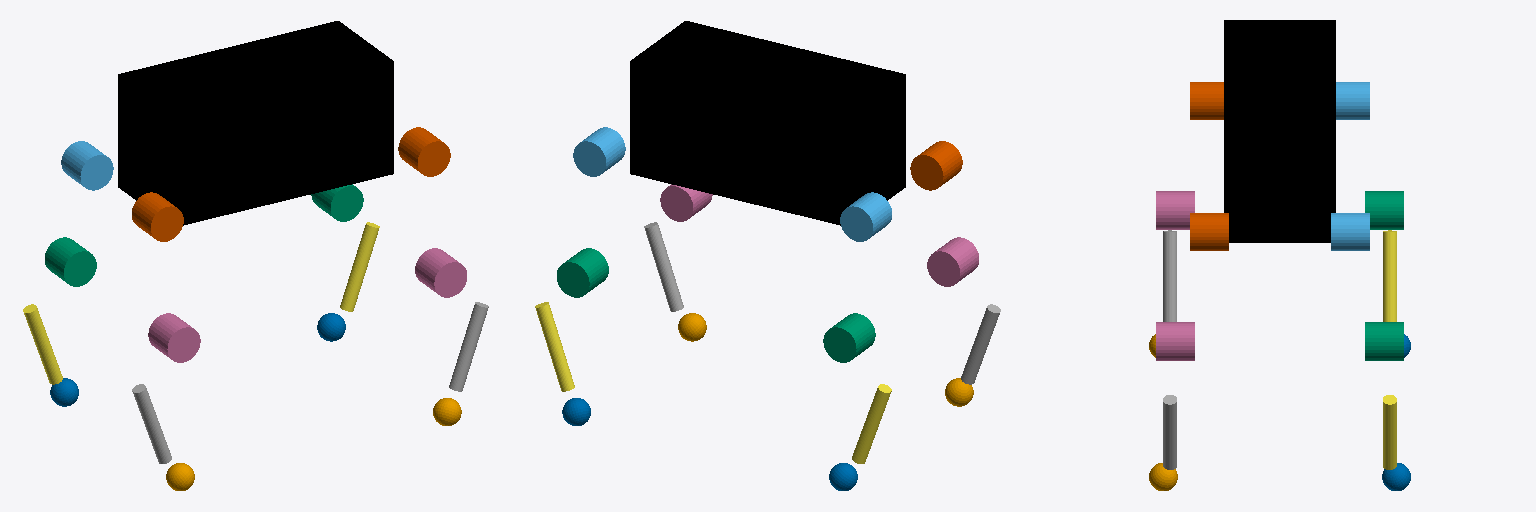
robot.urdf — anymal:
<?xml version="1.0" ?>
<!-- =================================================================================== -->
<!-- |    This document was autogenerated by xacro from [local-path]/catkin_ws/src/anymal_beth/anymal_beth_description/urdf/anymal_beth.urdf.xacro | -->
<!-- |    EDITING THIS FILE BY HAND IS NOT RECOMMENDED                                 | -->
<!-- =================================================================================== -->
<!--Copyright (C) 2015 by [author]                                    -->
<[email redacted]                                                 -->
<!--                                                                         -->
<!--This program is free software; you can redistribute it and/or modify     -->
<!--it under the terms of the Lesser GNU General Public License as published -->
<!--by the Free Software Foundation; either version 3 of the License, or     -->
<!--(at your option) any later version.                                      -->
<!--                                                                         -->
<!--This program is distributed in the hope that it will be useful,          -->
<!--but WITHOUT ANY WARRANTY; without even the implied warranty of           -->
<!--MERCHANTABILITY or FITNESS FOR A PARTICULAR PURPOSE. See the             -->
<!--Lesser GNU General Public License for more details.                      -->
<!--                                                                         -->
<!--You should have received a copy of the Lesser GNU General Public License -->
<!--along with this program. If not, see <http://www.gnu.org/licenses/>.     -->
<!-- This file contains the description of the ANYmal Beth robot. -->
<robot name="anymal" xmlns:xacro="http://www.ros.org/wiki/xacro">
    <material name="black">
        <color rgba="0.0 0.0 0.0 1.0"/>
    </material>
    <material name="blue">
        <color rgba="0.0 0.0 0.8 1.0"/>
    </material>
    <material name="green">
        <color rgba="0.0 0.8 0.0 1.0"/>
    </material>
    <material name="grey">
        <color rgba="0.2 0.2 0.2 1.0"/>
    </material>
    <material name="light_grey">
        <color rgba="0.4 0.4 0.4 1.0"/>
    </material>
    <material name="orange">
        <color rgba="1.0 0.423529411765 0.0392156862745 1.0"/>
    </material>
    <material name="brown">
        <color rgba="0.870588235294 0.811764705882 0.764705882353 1.0"/>
    </material>
    <material name="red">
        <color rgba="0.8 0.0 0.0 1.0"/>
    </material>
    <material name="white">
        <color rgba="1.0 1.0 1.0 1.0"/>
    </material>
    <!-- Material for the visual primitives -->
    <material name="anymal_material">
        <color rgba="0 0 0 0"/>
    </material>
    <link name="base">
        <visual>
            <!-- Main Body -->
            <origin rpy="0 0 0" xyz="0 0 0.08"/>
            <geometry>
                <box size="0.531 0.232 0.26"/>
            </geometry>
            <material name="anymal_material"/>
        </visual>
        <inertial>
            <origin rpy="0 0 0" xyz="0.0 0.0 0.0"/>
            <mass value="21.39"/>
            <inertia ixx="0.268388530624" ixy="0.000775392455422" ixz="-0.0151848534451" iyy="0.884235660795" iyz="-0.000989297489507" izz="0.829158678306"/>
        </inertial>
    </link>
    <link name="LF_HIP">
        <visual>
            <origin rpy="1.57079632679 0 0" xyz="0.0585 0.0315 0.0"/>
            <geometry>
                <cylinder length="0.08" radius="0.04"/>
            </geometry>
        </visual>
        <inertial>
            <origin rpy="0 0 0" xyz="0.0542 -0.0136 0.0"/>
            <mass value="1.1064"/>
            <inertia ixx="0.00123301508523" ixy="-6.4285329973e-05" ixz="6.9990104e-08" iyy="0.000993231183395" iyz="2.327401345e-06" izz="0.00142160349098"/>
        </inertial>
    </link>
    <!-- Hip joint -->
    <joint name="LF_HAA" type="continuous">
        <parent link="base"/>
        <child link="LF_HIP"/>
        <origin xyz="0.2629 0.115 0.0"/>
        <axis xyz="1 0 0"/>
        <dynamics damping="0.0" friction="0.0"/>
    </joint>
    <link name="LF_THIGH">
        <visual>
            <origin rpy="1.57079632679 0 0" xyz="0.0 0.07 -0.25"/>
            <geometry>
                <cylinder length="0.08" radius="0.04"/>
            </geometry>
        </visual>
        <inertial>
            <origin rpy="0 0 0" xyz="0.0008 0.0545 -0.1975"/>
            <mass value="1.51"/>
            <inertia ixx="0.0147571628275" ixy="-1.7996507882e-05" ixz="0.000205877679383" iyy="0.0144188925719" iyz="-0.00181291342366" izz="0.00178449075964"/>
        </inertial>
    </link>
    <!-- Thigh joint -->
    <joint name="LF_HFE" type="continuous">
        <parent link="LF_HIP"/>
        <child link="LF_THIGH"/>
        <origin xyz="0.0585 0.0315 0.0"/>
        <axis xyz="0 1 0"/>
        <dynamics damping="0.0" friction="0.0"/>
    </joint>
    <link name="LF_SHANK">
        <visual>
            <origin rpy="-0.0 0.34 0" xyz="0.06 -0.03 -0.18"/>
            <geometry>
                <cylinder length="0.19" radius="0.015"/>
            </geometry>
        </visual>
        <inertial>
            <origin rpy="0 0 0" xyz="0.016355414056 -0.00562219106 -0.064350437219"/>
            <mass value="0.318"/>
            <inertia ixx="0.0037693717909" ixy="-7.7334500762e-05" ixz="-0.000152069372983" iyy="0.00400446467635" iyz="-0.0003218356083" izz="0.000418471691904"/>
        </inertial>
    </link>
    <!-- Shank joint -->
    <joint name="LF_KFE" type="continuous">
        <parent link="LF_THIGH"/>
        <child link="LF_SHANK"/>
        <origin xyz="0.0 0.111 -0.25"/>
        <axis xyz="0 1 0"/>
        <dynamics damping="0.0" friction="0.0"/>
    </joint>
    <!-- Foot mount link -->
    <link name="LF_FOOT_MOUNT">
        <visual>
            <origin rpy="0 0 0" xyz="0.0 0.0 0"/>
            <geometry>
                <sphere radius="0.03"/>
            </geometry>
        </visual>
        <inertial>
            <origin rpy="0 0 0" xyz="-5.552058e-06 7.1133124e-05 -0.021388647779"/>
            <mass value="0.1922685"/>
            <inertia ixx="8.3086410294e-05" ixy="4.16901601e-07" ixz="3.99054799e-07" iyy="8.2860209667e-05" iyz="-3.45712252e-07" izz="8.1948124086e-05"/>
        </inertial>
    </link>
    <!-- Foot mount joint / ankle -->
    <joint name="LF_ANKLE_JOINT" type="fixed">
        <parent link="LF_SHANK"/>
        <child link="LF_FOOT_MOUNT"/>
        <origin rpy="0.323 0.549 0" xyz="0.0 -0.016 -0.31"/>
    </joint>
    <link name="RF_HIP">
        <visual>
            <origin rpy="1.57079632679 0 0" xyz="0.0585 -0.0315 0.0"/>
            <geometry>
                <cylinder length="0.08" radius="0.04"/>
            </geometry>
        </visual>
        <inertial>
            <origin rpy="0 0 0" xyz="0.0542 0.0136 0.0"/>
            <mass value="1.1064"/>
            <inertia ixx="0.00123301508523" ixy="6.4285329973e-05" ixz="6.9990104e-08" iyy="0.000993231183395" iyz="-2.327401345e-06" izz="0.00142160349098"/>
        </inertial>
    </link>
    <!-- Hip joint -->
    <joint name="RF_HAA" type="continuous">
        <parent link="base"/>
        <child link="RF_HIP"/>
        <origin xyz="0.2629 -0.115 0.0"/>
        <axis xyz="1 0 0"/>
        <dynamics damping="0.0" friction="0.0"/>
    </joint>
    <link name="RF_THIGH">
        <visual>
            <origin rpy="1.57079632679 0 0" xyz="0.0 -0.07 -0.25"/>
            <geometry>
                <cylinder length="0.08" radius="0.04"/>
            </geometry>
        </visual>
        <inertial>
            <origin rpy="0 0 0" xyz="0.0008 -0.0545 -0.1975"/>
            <mass value="1.51"/>
            <inertia ixx="0.0147571628275" ixy="1.7996507882e-05" ixz="0.000205877679383" iyy="0.0144188925719" iyz="0.00181291342366" izz="0.00178449075964"/>
        </inertial>
    </link>
    <!-- Thigh joint -->
    <joint name="RF_HFE" type="continuous">
        <parent link="RF_HIP"/>
        <child link="RF_THIGH"/>
        <origin xyz="0.0585                    -0.0315                    0.0"/>
        <axis xyz="0 1 0"/>
        <dynamics damping="0.0" friction="0.0"/>
    </joint>
    <link name="RF_SHANK">
        <visual>
            <origin rpy="0.0 0.34 0" xyz="0.06 0.03 -0.18"/>
            <geometry>
                <cylinder length="0.19" radius="0.015"/>
            </geometry>
        </visual>
        <inertial>
            <origin rpy="0 0 0" xyz="0.016355414056 0.00562219106 -0.064350437219"/>
            <mass value="0.318"/>
            <inertia ixx="0.0037693717909" ixy="7.7334500762e-05" ixz="-0.000152069372983" iyy="0.00400446467635" iyz="0.0003218356083" izz="0.000418471691904"/>
        </inertial>
    </link>
    <!-- Shank joint -->
    <joint name="RF_KFE" type="continuous">
        <parent link="RF_THIGH"/>
        <child link="RF_SHANK"/>
        <origin xyz="0.0 -0.111 -0.25"/>
        <axis xyz="0 1 0"/>
        <dynamics damping="0.0" friction="0.0"/>
    </joint>
    <!-- Foot mount link -->
    <link name="RF_FOOT_MOUNT">
        <visual>
            <origin rpy="0 0 0" xyz="0.0 0.0 0"/>
            <geometry>
                <sphere radius="0.03"/>
            </geometry>
        </visual>
        <inertial>
            <origin rpy="0 0 0" xyz="-5.552058e-06 -7.1133124e-05 -0.021388647779"/>
            <mass value="0.1922685"/>
            <inertia ixx="8.3086410294e-05" ixy="-4.16901601e-07" ixz="3.99054799e-07" iyy="8.2860209667e-05" iyz="3.45712252e-07" izz="8.1948124086e-05"/>
        </inertial>
    </link>
    <!-- Foot mount joint / ankle -->
    <joint name="RF_ANKLE_JOINT" type="fixed">
        <parent link="RF_SHANK"/>
        <child link="RF_FOOT_MOUNT"/>
        <origin rpy="-0.323 0.549 0" xyz="0.0 0.016 -0.31"/>
    </joint>
    <link name="LH_HIP">
        <visual>
            <origin rpy="-1.57079632679 0 0" xyz="-0.0585 0.0315 0.0"/>
            <geometry>
                <cylinder length="0.08" radius="0.04"/>
            </geometry>
        </visual>
        <inertial>
            <origin rpy="0 0 0" xyz="-0.0542 -0.0136 0.0"/>
            <mass value="1.1064"/>
            <inertia ixx="0.00123301508523" ixy="6.4285329973e-05" ixz="-6.9990104e-08" iyy="0.000993231183395" iyz="2.327401345e-06" izz="0.00142160349098"/>
        </inertial>
    </link>
    <!-- Hip joint -->
    <joint name="LH_HAA" type="continuous">
        <parent link="base"/>
        <child link="LH_HIP"/>
        <origin xyz="-0.2629 0.115 0.0"/>
        <axis xyz="1 0 0"/>
        <dynamics damping="0.0" friction="0.0"/>
    </joint>
    <link name="LH_THIGH">
        <visual>
            <origin rpy="1.57079632679 0 0" xyz="0.0 0.07 -0.25"/>
            <geometry>
                <cylinder length="0.08" radius="0.04"/>
            </geometry>
        </visual>
        <inertial>
            <origin rpy="0 0 0" xyz="-0.0008 0.0545 -0.1975"/>
            <mass value="1.51"/>
            <inertia ixx="0.0147571628275" ixy="1.7996507882e-05" ixz="-0.000205877679383" iyy="0.0144188925719" iyz="-0.00181291342366" izz="0.00178449075964"/>
        </inertial>
    </link>
    <!-- Thigh joint -->
    <joint name="LH_HFE" type="continuous">
        <parent link="LH_HIP"/>
        <child link="LH_THIGH"/>
        <origin xyz="-0.0585 0.0315 0.0"/>
        <axis xyz="0 1 0"/>
        <dynamics damping="0.0" friction="0.0"/>
    </joint>
    <link name="LH_SHANK">
        <visual>
            <origin rpy="-0.0 -0.34 0" xyz="-0.06 -0.03 -0.18"/>
            <geometry>
                <cylinder length="0.19" radius="0.015"/>
            </geometry>
        </visual>
        <inertial>
            <origin rpy="0 0 0" xyz="-0.016355414056 -0.00562219106 -0.064350437219"/>
            <mass value="0.318"/>
            <inertia ixx="0.0037693717909" ixy="7.7334500762e-05" ixz="0.000152069372983" iyy="0.00400446467635" iyz="-0.0003218356083" izz="0.000418471691904"/>
        </inertial>
    </link>
    <!-- Shank joint -->
    <joint name="LH_KFE" type="continuous">
        <parent link="LH_THIGH"/>
        <child link="LH_SHANK"/>
        <origin xyz="-0.0 0.111 -0.25"/>
        <axis xyz="0 1 0"/>
        <dynamics damping="0.0" friction="0.0"/>
    </joint>
    <!-- Foot mount link -->
    <link name="LH_FOOT_MOUNT">
        <visual>
            <origin rpy="0 0 0" xyz="0.0 0.0 0"/>
            <geometry>
                <sphere radius="0.03"/>
            </geometry>
        </visual>
        <inertial>
            <origin rpy="0 0 0" xyz="5.552058e-06 7.1133124e-05 -0.021388647779"/>
            <mass value="0.1922685"/>
            <inertia ixx="8.3086410294e-05" ixy="-4.16901601e-07" ixz="-3.99054799e-07" iyy="8.2860209667e-05" iyz="-3.45712252e-07" izz="8.1948124086e-05"/>
        </inertial>
    </link>
    <!-- Foot mount joint / ankle -->
    <joint name="LH_ANKLE_JOINT" type="fixed">
        <parent link="LH_SHANK"/>
        <child link="LH_FOOT_MOUNT"/>
        <origin rpy="0.323 -0.549 0" xyz="-0.0 -0.016 -0.31"/>
    </joint>
    <link name="RH_HIP">
        <visual>
            <origin rpy="-1.57079632679 0 0" xyz="-0.0585 -0.0315 0.0"/>
            <geometry>
                <cylinder length="0.08" radius="0.04"/>
            </geometry>
        </visual>
        <inertial>
            <origin rpy="0 0 0" xyz="-0.0542 0.0136 0.0"/>
            <mass value="1.1064"/>
            <inertia ixx="0.00123301508523" ixy="-6.4285329973e-05" ixz="-6.9990104e-08" iyy="0.000993231183395" iyz="-2.327401345e-06" izz="0.00142160349098"/>
        </inertial>
    </link>
    <!-- Hip joint -->
    <joint name="RH_HAA" type="continuous">
        <parent link="base"/>
        <child link="RH_HIP"/>
        <origin xyz="-0.2629 -0.115 0.0"/>
        <axis xyz="1 0 0"/>
        <dynamics damping="0.0" friction="0.0"/>
    </joint>
    <link name="RH_THIGH">
        <visual>
            <origin rpy="1.57079632679 0 0" xyz="0.0 -0.07 -0.25"/>
            <geometry>
                <cylinder length="0.08" radius="0.04"/>
            </geometry>
        </visual>
        <inertial>
            <origin rpy="0 0 0" xyz="-0.0008 -0.0545 -0.1975"/>
            <mass value="1.51"/>
            <inertia ixx="0.0147571628275" ixy="-1.7996507882e-05" ixz="-0.000205877679383" iyy="0.0144188925719" iyz="0.00181291342366" izz="0.00178449075964"/>
        </inertial>
    </link>
    <!-- Thigh joint -->
    <joint name="RH_HFE" type="continuous">
        <parent link="RH_HIP"/>
        <child link="RH_THIGH"/>
        <origin xyz="-0.0585                    -0.0315                    0.0"/>
        <axis xyz="0 1 0"/>
        <dynamics damping="0.0" friction="0.0"/>
    </joint>
    <link name="RH_SHANK">
        <visual>
            <origin rpy="0.0 -0.34 0" xyz="-0.06 0.03 -0.18"/>
            <geometry>
                <cylinder length="0.19" radius="0.015"/>
            </geometry>
        </visual>
        <inertial>
            <origin rpy="0 0 0" xyz="-0.016355414056 0.00562219106 -0.064350437219"/>
            <mass value="0.318"/>
            <inertia ixx="0.0037693717909" ixy="-7.7334500762e-05" ixz="0.000152069372983" iyy="0.00400446467635" iyz="0.0003218356083" izz="0.000418471691904"/>
        </inertial>
    </link>
    <!-- Shank joint -->
    <joint name="RH_KFE" type="continuous">
        <parent link="RH_THIGH"/>
        <child link="RH_SHANK"/>
        <origin xyz="-0.0 -0.111 -0.25"/>
        <axis xyz="0 1 0"/>
        <dynamics damping="0.0" friction="0.0"/>
    </joint>
    <!-- Foot mount link -->
    <link name="RH_FOOT_MOUNT">
        <visual>
            <origin rpy="0 0 0" xyz="0.0 0.0 0"/>
            <geometry>
                <sphere radius="0.03"/>
            </geometry>
        </visual>
        <inertial>
            <origin rpy="0 0 0" xyz="5.552058e-06 -7.1133124e-05 -0.021388647779"/>
            <mass value="0.1922685"/>
            <inertia ixx="8.3086410294e-05" ixy="4.16901601e-07" ixz="-3.99054799e-07" iyy="8.2860209667e-05" iyz="3.45712252e-07" izz="8.1948124086e-05"/>
        </inertial>
    </link>
    <!-- Foot mount joint / ankle -->
    <joint name="RH_ANKLE_JOINT" type="fixed">
        <parent link="RH_SHANK"/>
        <child link="RH_FOOT_MOUNT"/>
        <origin rpy="-0.323 -0.549 0" xyz="-0.0 0.016 -0.31"/>
    </joint>
    <link name="imu_link">
        <visual>
            <origin rpy="0 0 0" xyz="0 0 0.011"/>
            <geometry>
                <box size="0.058 0.058 0.022"/>
            </geometry>
        </visual>
        <inertial>
            <mass value="0.05"/>
            <origin xyz="0 0 0"/>
            <inertia ixx="1.60333333333e-05" ixy="0.0" ixz="0.0" iyy="2.80333333333e-05" iyz="0.0" izz="1.60333333333e-05"/>
        </inertial>
    </link>
    <joint name="imu_joint" type="fixed">
        <parent link="base"/>
        <child link="imu_link"/>
        <origin rpy="3.14159265359 0 0" xyz="0.0245 -0.04255 0.1857"/>
    </joint>
</robot>

--- What the picture shows (computed from the rendered views, not written in the file) ---
The picture shows the robot from 3 angles, left to right: view 1: azimuth 30°, elevation 25°; view 2: azimuth 150°, elevation 25°; view 3: azimuth 270°, elevation 25°; orthographic projection.
Robot: anymal — 18 links, 17 joints (12 continuous, 5 fixed); root link base; default pose: every joint at zero.
Links seen in each view (by area): view 1: base, RF_THIGH, RF_HIP, RH_THIGH, LH_HIP, LH_THIGH, RH_HIP, LF_THIGH, RF_SHANK, LF_SHANK, LH_SHANK, RH_SHANK (+4 smaller); view 2: base, LF_THIGH, LF_HIP, LH_THIGH, RH_HIP, RH_THIGH, LH_HIP, RF_THIGH, LF_SHANK, RF_SHANK, RH_SHANK, LH_SHANK (+4 smaller); view 3: base, LF_THIGH, RF_THIGH, LF_HIP, RF_HIP, LH_THIGH, RH_THIGH, LH_HIP, RH_HIP, LH_SHANK, RH_SHANK, LF_SHANK (+3 smaller).
Boxes of the visible links, box(x1,y1,x2,y2) form: base: box(118, 21, 393, 225); RF_THIGH: box(415, 248, 466, 297); RF_HIP: box(398, 127, 450, 176); RH_THIGH: box(148, 313, 200, 362); LH_HIP: box(61, 141, 113, 190); LH_THIGH: box(45, 237, 96, 286); RH_HIP: box(132, 192, 183, 241); LF_THIGH: box(311, 184, 363, 221); RF_SHANK: box(449, 302, 488, 391); LF_SHANK: box(340, 222, 379, 311); LH_SHANK: box(23, 304, 62, 384); RH_SHANK: box(132, 384, 171, 463); base: box(630, 21, 905, 225); LF_THIGH: box(557, 248, 608, 297); LF_HIP: box(573, 127, 625, 176); LH_THIGH: box(823, 313, 875, 362); RH_HIP: box(910, 141, 962, 190); RH_THIGH: box(927, 237, 978, 286); LH_HIP: box(840, 192, 891, 241); RF_THIGH: box(660, 184, 712, 221); LF_SHANK: box(535, 302, 574, 391); RF_SHANK: box(644, 222, 683, 311); RH_SHANK: box(961, 304, 1000, 384); LH_SHANK: box(852, 384, 891, 463); base: box(1224, 20, 1335, 242); LF_THIGH: box(1365, 322, 1403, 360); RF_THIGH: box(1156, 322, 1194, 360); LF_HIP: box(1331, 213, 1369, 250); RF_HIP: box(1190, 213, 1228, 250); LH_THIGH: box(1365, 191, 1403, 229); RH_THIGH: box(1156, 191, 1194, 229); LH_HIP: box(1336, 82, 1369, 119); RH_HIP: box(1190, 82, 1223, 119); LH_SHANK: box(1383, 230, 1396, 321); RH_SHANK: box(1163, 230, 1176, 321); LF_SHANK: box(1383, 395, 1396, 469).
Size in the robot's own frame: 0.8544 by 0.5429 by 0.7999 metres.
Geometry: primitives only (box / cylinder / sphere), no mesh files.